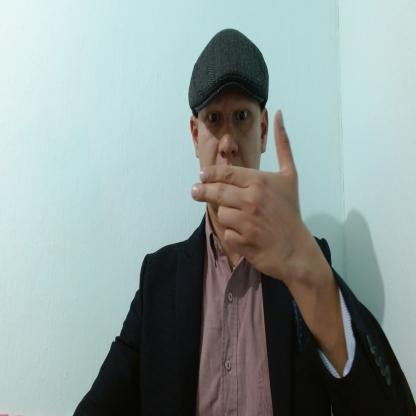H: (191, 109, 297, 277)
